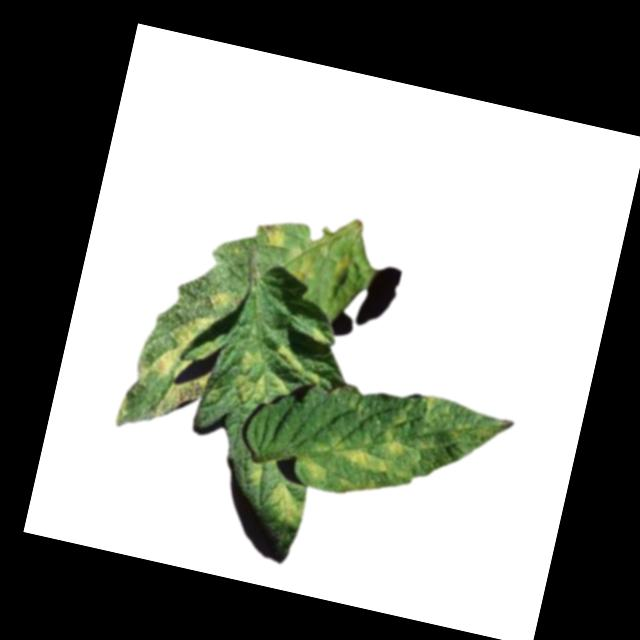Leaf_Mold: (225, 335, 331, 419), (330, 420, 414, 483), (153, 365, 209, 426), (262, 481, 310, 528), (171, 306, 218, 351), (148, 341, 186, 377), (296, 452, 332, 488), (253, 219, 291, 253), (201, 284, 240, 314)
